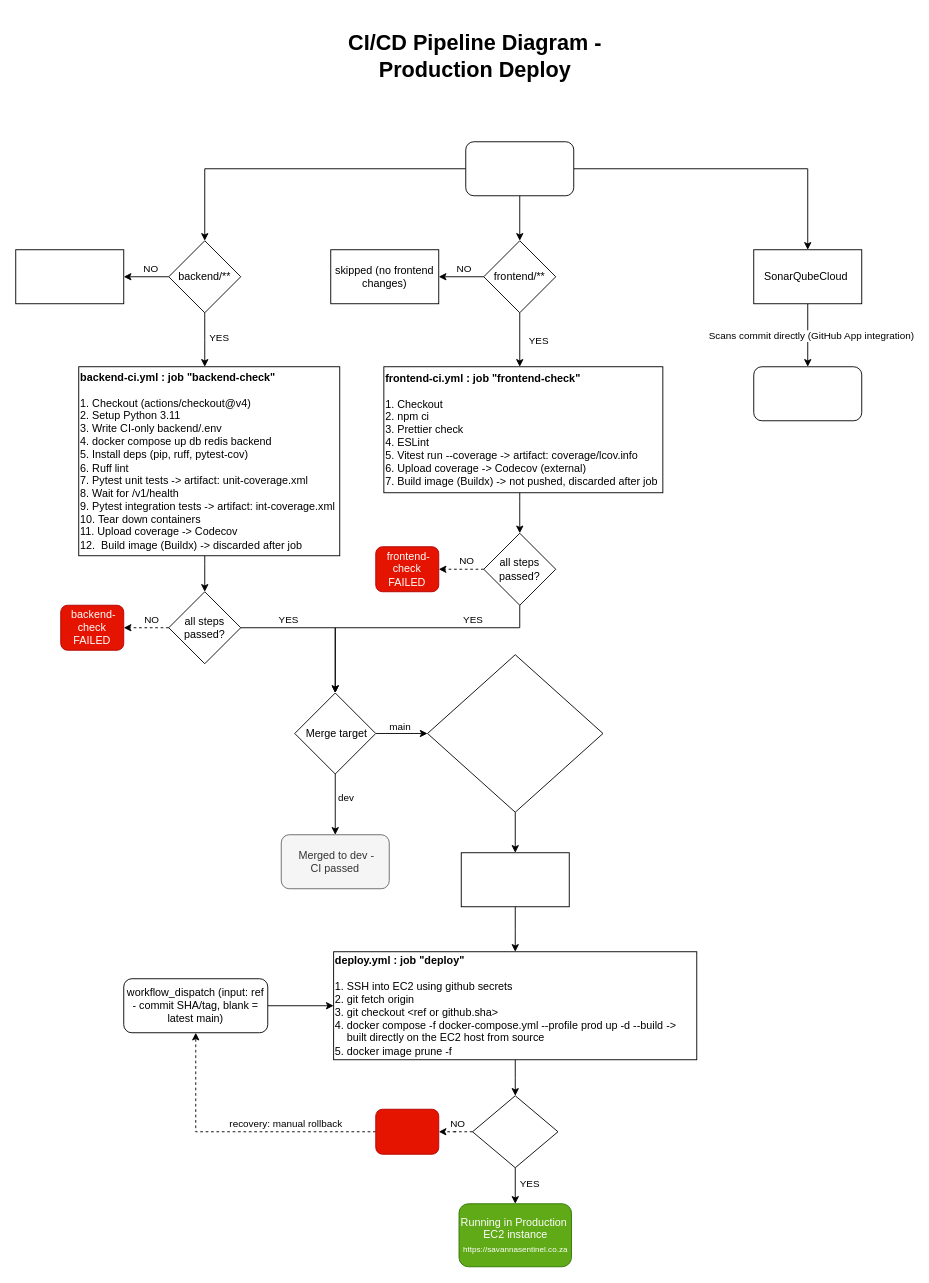
This 929x1283 diagram has some shape labels left out. Each missing label, with the centre of its shape:
"Branch protection on main: requires backend-check + frontend-check" belongs at point (515, 733).
"Deploy FAILED" belongs at point (407, 1131).
"Developer opens PR (branches: main, dev)" belongs at point (519, 168).
"script succeeded?" belongs at point (515, 1131).
"skipped (no backend changes)" belongs at point (69, 276).
"SonarCloud Code Analysis Report" belongs at point (807, 393).
"triggers deploy" belongs at point (514, 879).
